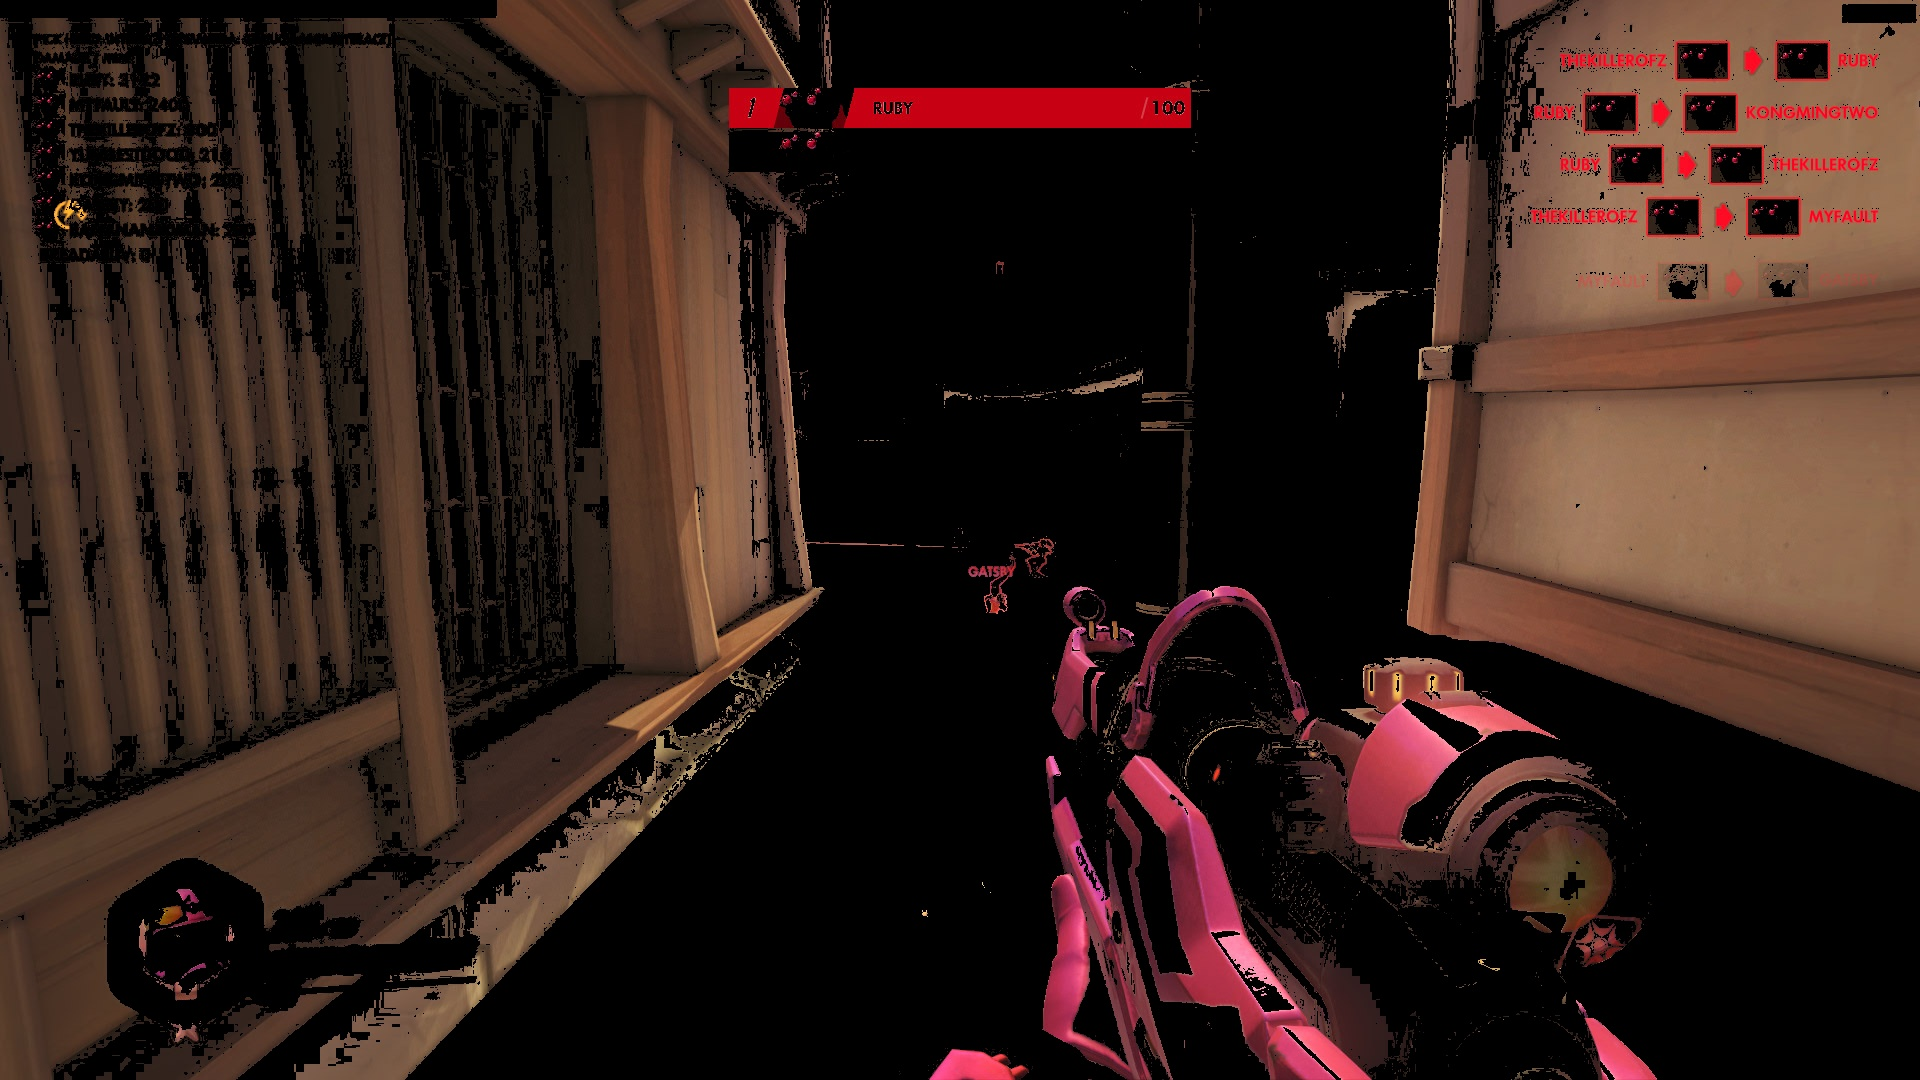widowmaker: (1013, 535, 1058, 585), (978, 574, 1014, 620)
